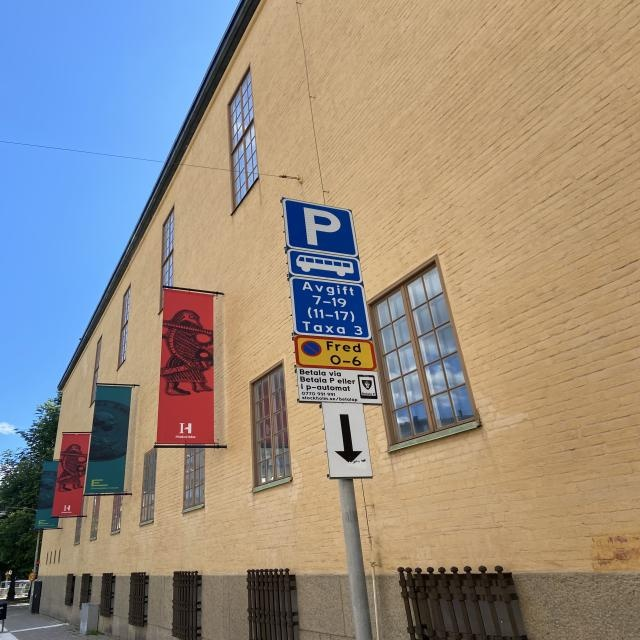P-skylt: (282, 197, 363, 257)
